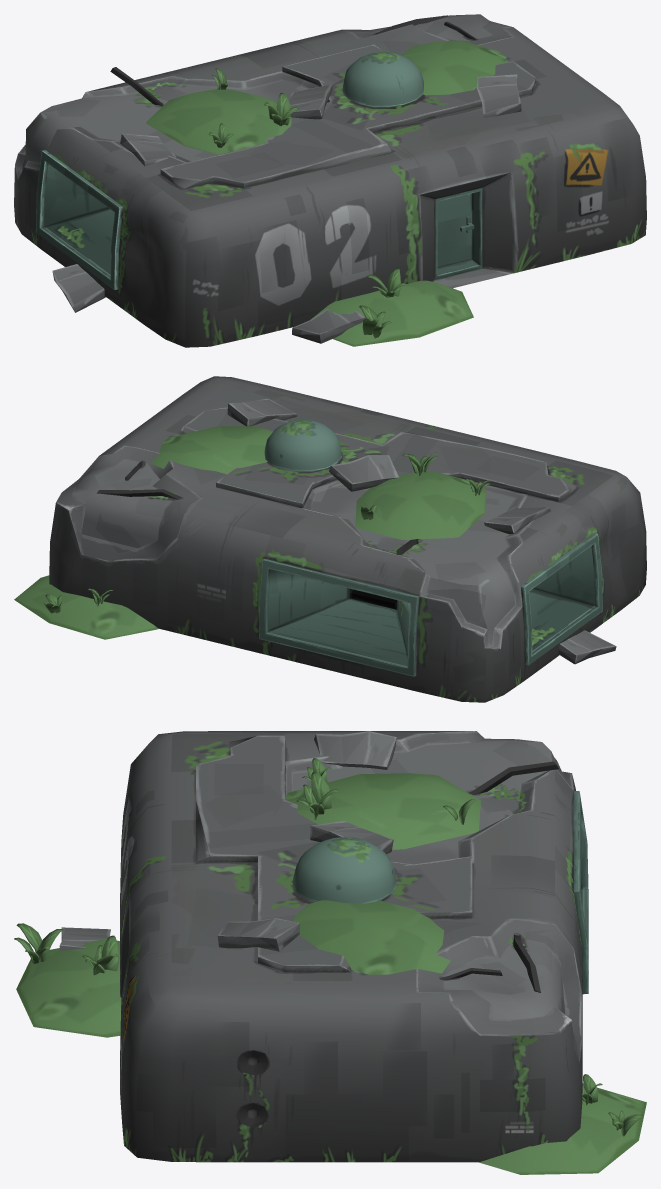
File: Bunker2.fbx
3 renders of one model, top to bottom at view 1: azimuth 30°, elevation 25°; view 2: azimuth 150°, elevation 25°; view 3: azimuth 270°, elevation 25°, orthographic. The views are drawn at different scales.
Visible parts, largest first — view 1: Bunker2; view 2: Bunker2; view 3: Bunker2.
Boxes of the visible parts, left/top/right/bottom form: Bunker2: left=14, top=14, right=646, bottom=347; Bunker2: left=14, top=376, right=646, bottom=702; Bunker2: left=14, top=731, right=646, bottom=1174.
Bounding box in the file's own units: 13.59 × 4.18 × 11.19.
